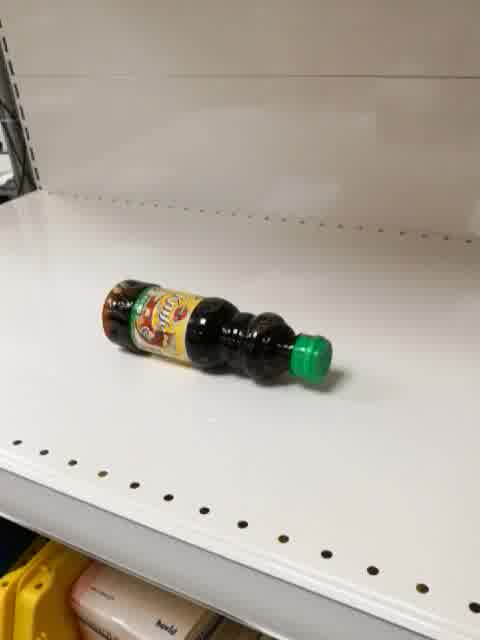cookingoil: (100, 278, 334, 387)
